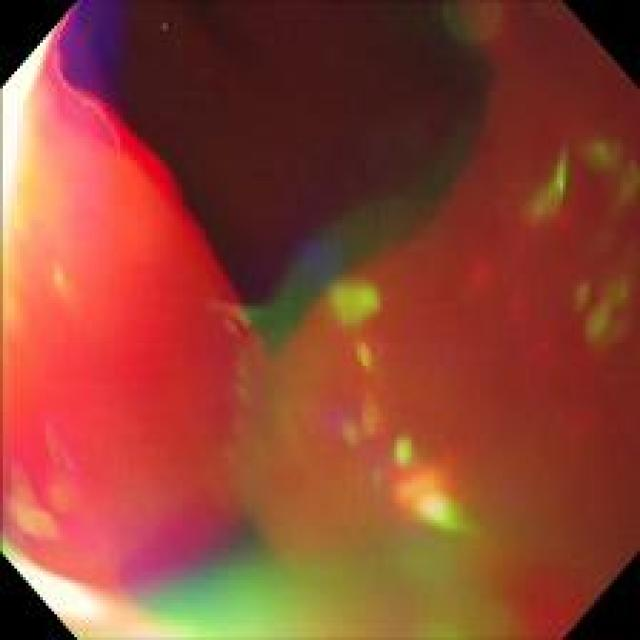color misalignment: (5, 364, 611, 624), (411, 6, 634, 634), (2, 11, 191, 435)
contrast: (81, 9, 460, 241)
